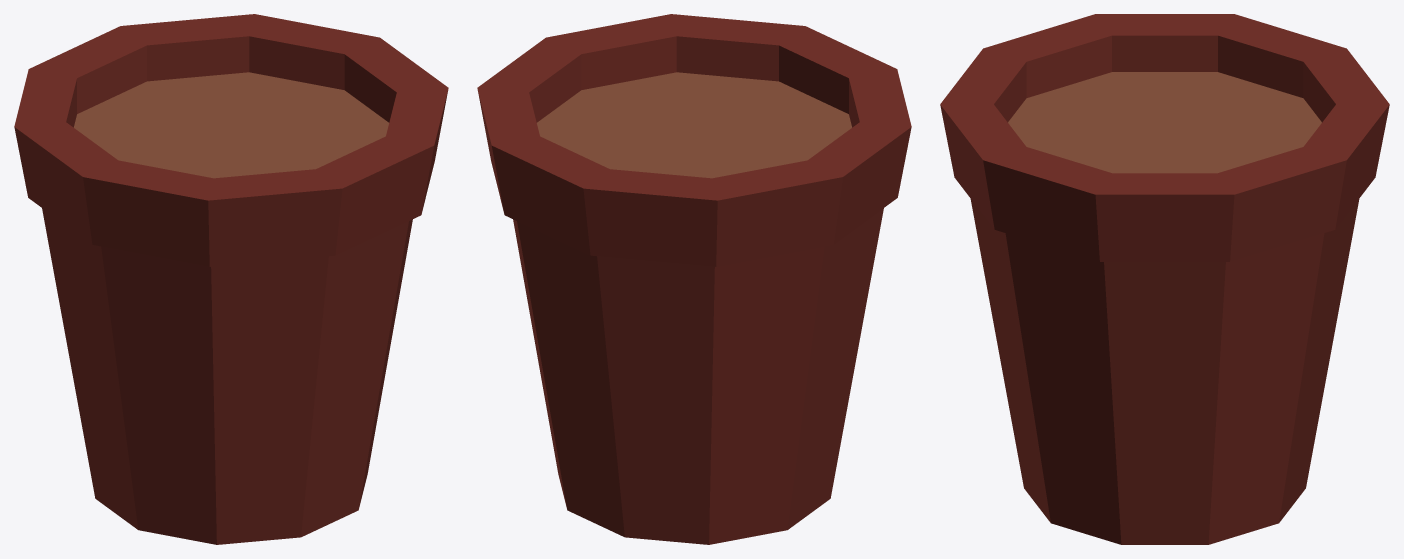
Rendered from Pot_1_mat.fbx.
3 renders of one model, left to right at view 1: azimuth 30°, elevation 25°; view 2: azimuth 150°, elevation 25°; view 3: azimuth 270°, elevation 25°, orthographic.
Parts seen in each view (by area): view 1: Pot_1_mat; view 2: Pot_1_mat; view 3: Pot_1_mat.
Part boxes in pixels (x1,y1,x2,y2): Pot_1_mat: (14,14,448,544); Pot_1_mat: (477,14,911,544); Pot_1_mat: (940,14,1389,544).
Size of the model in its own units: 1.21 by 1.2 by 1.28.
